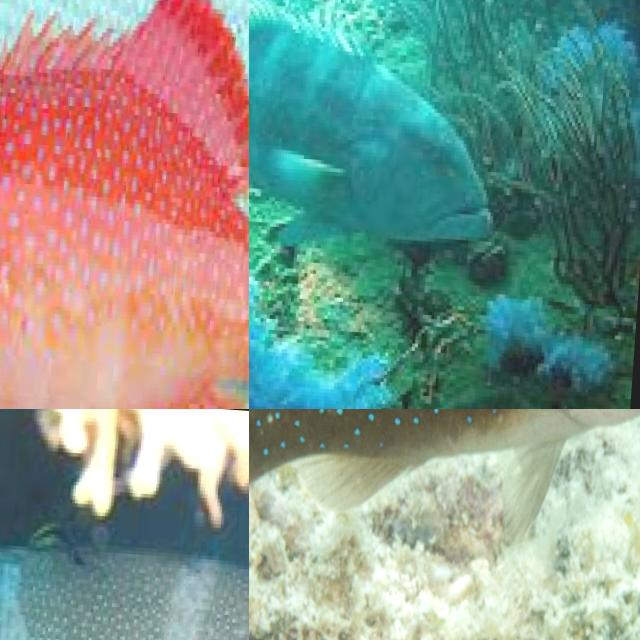Plectropomus-leopardus: (0, 0, 249, 409), (249, 409, 640, 621), (249, 0, 526, 266), (0, 494, 249, 640)
